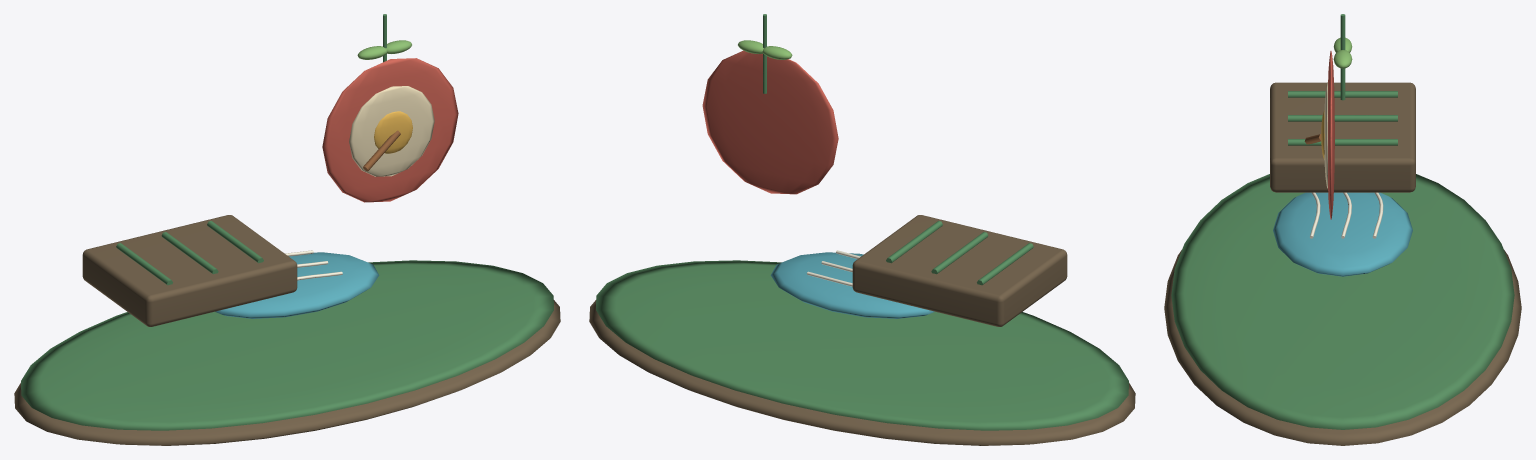
Rendered from complete-second-from-marker-cause.glb.
The picture shows the model from 3 angles, left to right: view 1: azimuth 30°, elevation 25°; view 2: azimuth 150°, elevation 25°; view 3: azimuth 270°, elevation 25°; orthographic projection. The views are drawn at different scales.
Visible parts, largest first — view 1: complete-second-from-marker-cause_surface_01, complete-second-from-marker-cause_surface_00, complete-second-from-marker-cause_surface_02, complete-second-from-marker-cause_surface_06, complete-second-from-marker-cause_surface_03, complete-second-from-marker-cause_surface_04, complete-second-from-marker-cause_surface_08; view 2: complete-second-from-marker-cause_surface_01, complete-second-from-marker-cause_surface_00, complete-second-from-marker-cause_surface_02, complete-second-from-marker-cause_surface_06, complete-second-from-marker-cause_surface_08; view 3: complete-second-from-marker-cause_surface_01, complete-second-from-marker-cause_surface_00, complete-second-from-marker-cause_surface_06, complete-second-from-marker-cause_surface_02, complete-second-from-marker-cause_surface_07, complete-second-from-marker-cause_surface_08, complete-second-from-marker-cause_surface_03.
Part boxes in pixels (left/top/right/bottom): complete-second-from-marker-cause_surface_01: left=21, top=14, right=553, bottom=430; complete-second-from-marker-cause_surface_00: left=14, top=215, right=560, bottom=445; complete-second-from-marker-cause_surface_02: left=322, top=58, right=458, bottom=202; complete-second-from-marker-cause_surface_06: left=215, top=252, right=379, bottom=318; complete-second-from-marker-cause_surface_03: left=349, top=86, right=434, bottom=176; complete-second-from-marker-cause_surface_04: left=374, top=111, right=412, bottom=153; complete-second-from-marker-cause_surface_08: left=357, top=40, right=411, bottom=59; complete-second-from-marker-cause_surface_01: left=596, top=14, right=1128, bottom=430; complete-second-from-marker-cause_surface_00: left=589, top=215, right=1135, bottom=445; complete-second-from-marker-cause_surface_02: left=702, top=50, right=838, bottom=194; complete-second-from-marker-cause_surface_06: left=770, top=252, right=934, bottom=318; complete-second-from-marker-cause_surface_08: left=738, top=40, right=792, bottom=59; complete-second-from-marker-cause_surface_01: left=1171, top=14, right=1514, bottom=429; complete-second-from-marker-cause_surface_00: left=1164, top=82, right=1521, bottom=445; complete-second-from-marker-cause_surface_06: left=1273, top=192, right=1412, bottom=276; complete-second-from-marker-cause_surface_02: left=1328, top=51, right=1334, bottom=219; complete-second-from-marker-cause_surface_07: left=1310, top=192, right=1383, bottom=238; complete-second-from-marker-cause_surface_08: left=1333, top=37, right=1352, bottom=68; complete-second-from-marker-cause_surface_03: left=1324, top=82, right=1327, bottom=188.
Bounding box in the file's own units: 4.56 × 2.79 × 2.5.
